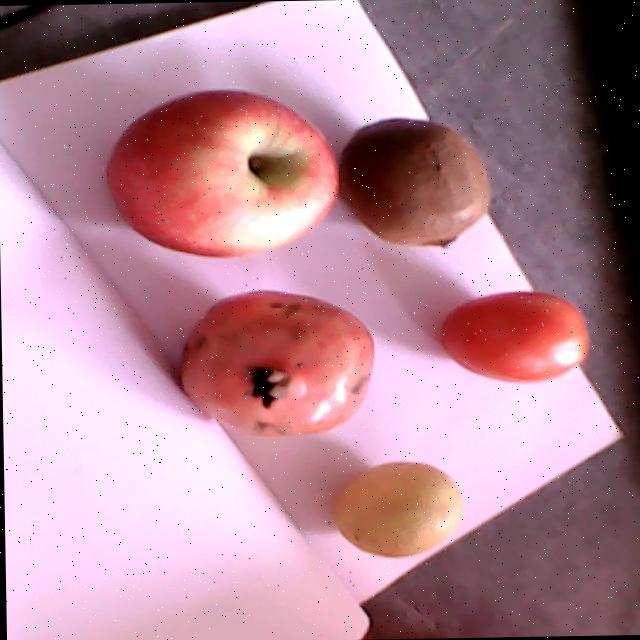apple: (108, 89, 336, 258)
kiwi: (339, 118, 489, 250)
lemon: (334, 461, 461, 558)
pomegranate: (178, 290, 373, 438)
tomato: (441, 290, 590, 382)
